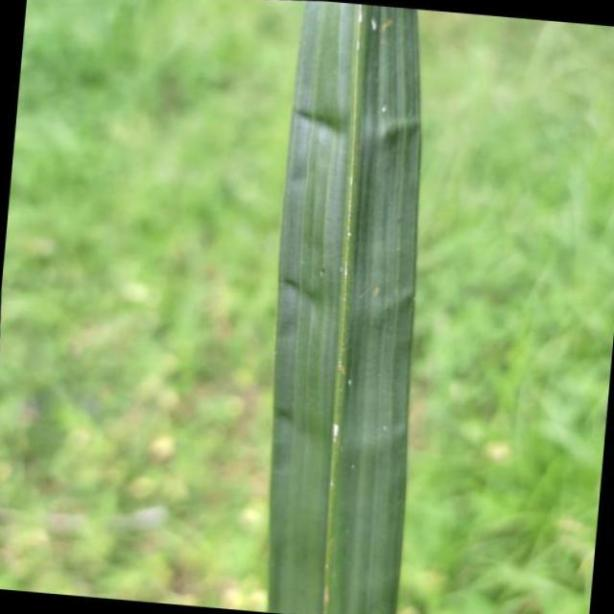Boron: (268, 0, 420, 614)
